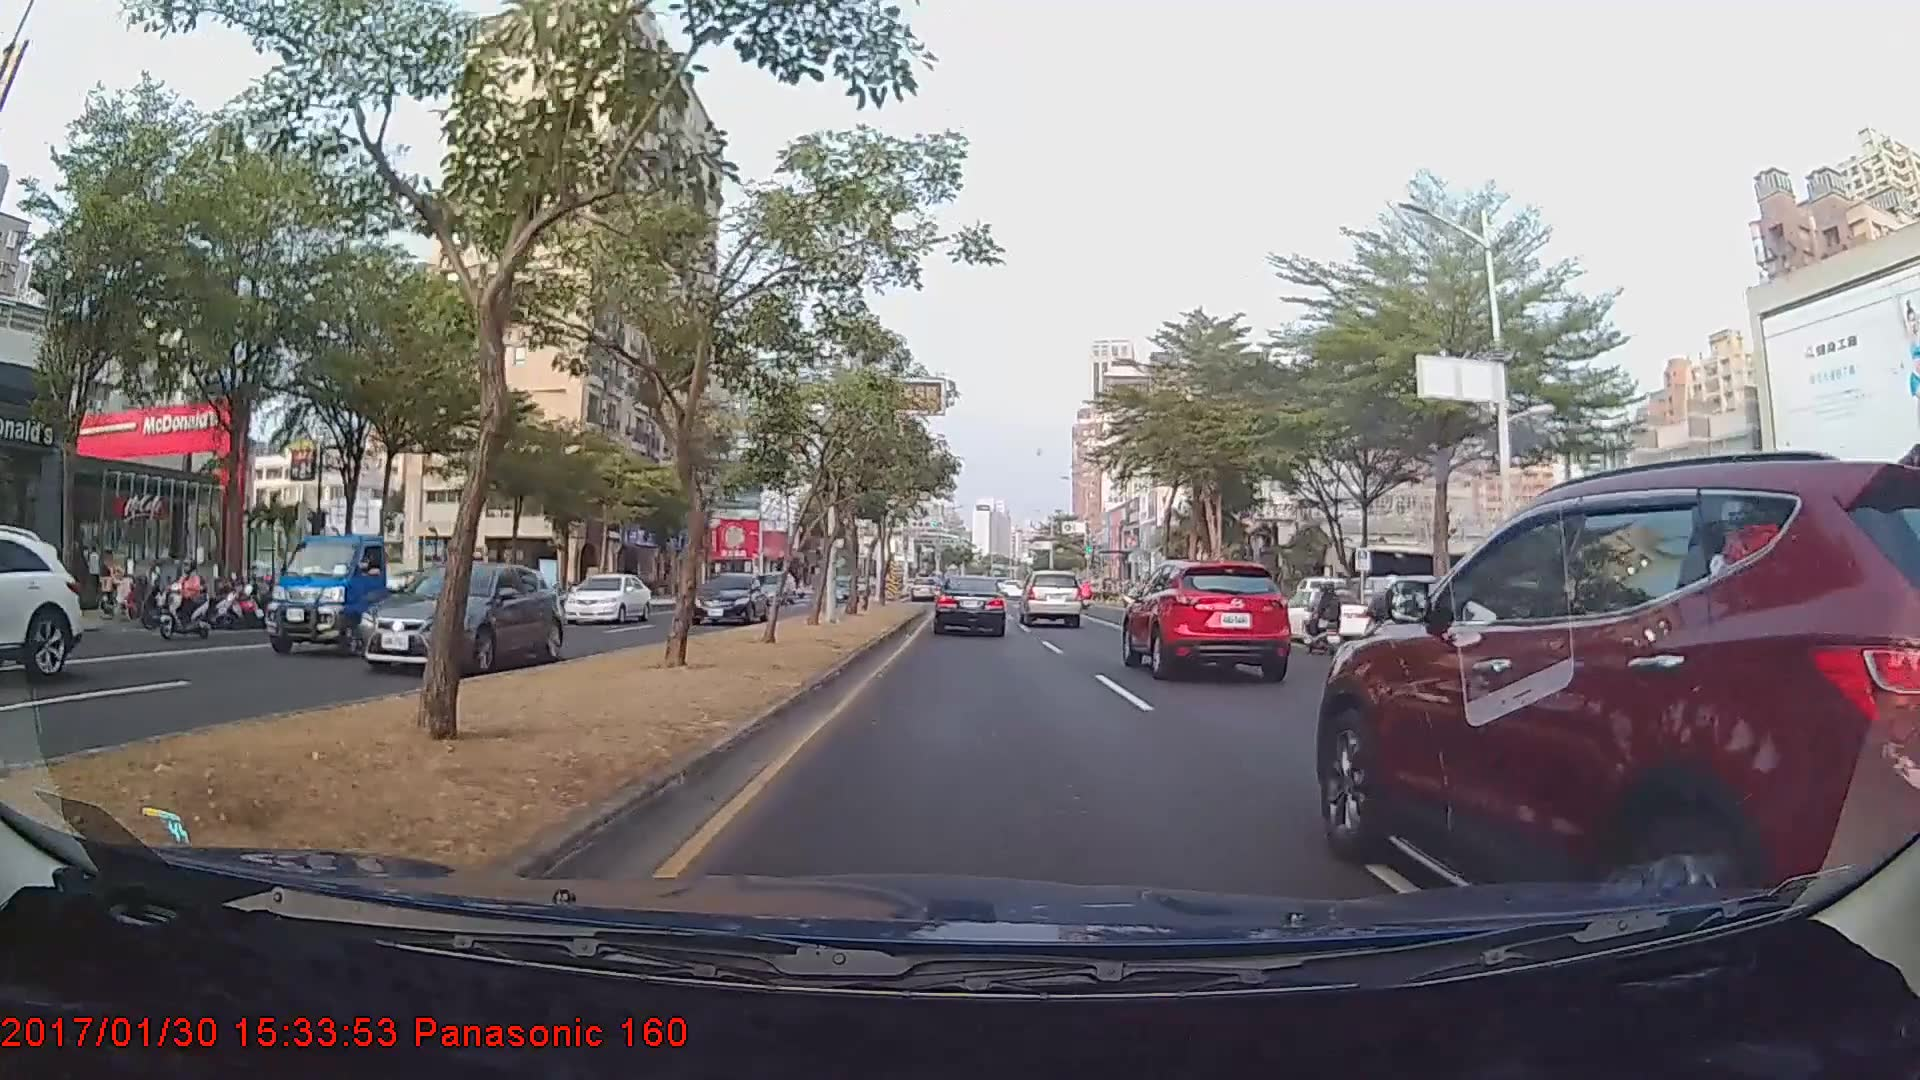rider: (159, 557, 219, 643), (1300, 580, 1350, 666)
vehicle: (1314, 457, 1920, 970), (351, 562, 560, 674), (261, 528, 443, 654), (1121, 553, 1293, 681), (0, 527, 84, 684), (1272, 586, 1369, 644), (932, 572, 1006, 637), (561, 573, 652, 623), (688, 571, 769, 625), (1019, 568, 1083, 627), (907, 575, 940, 602)
